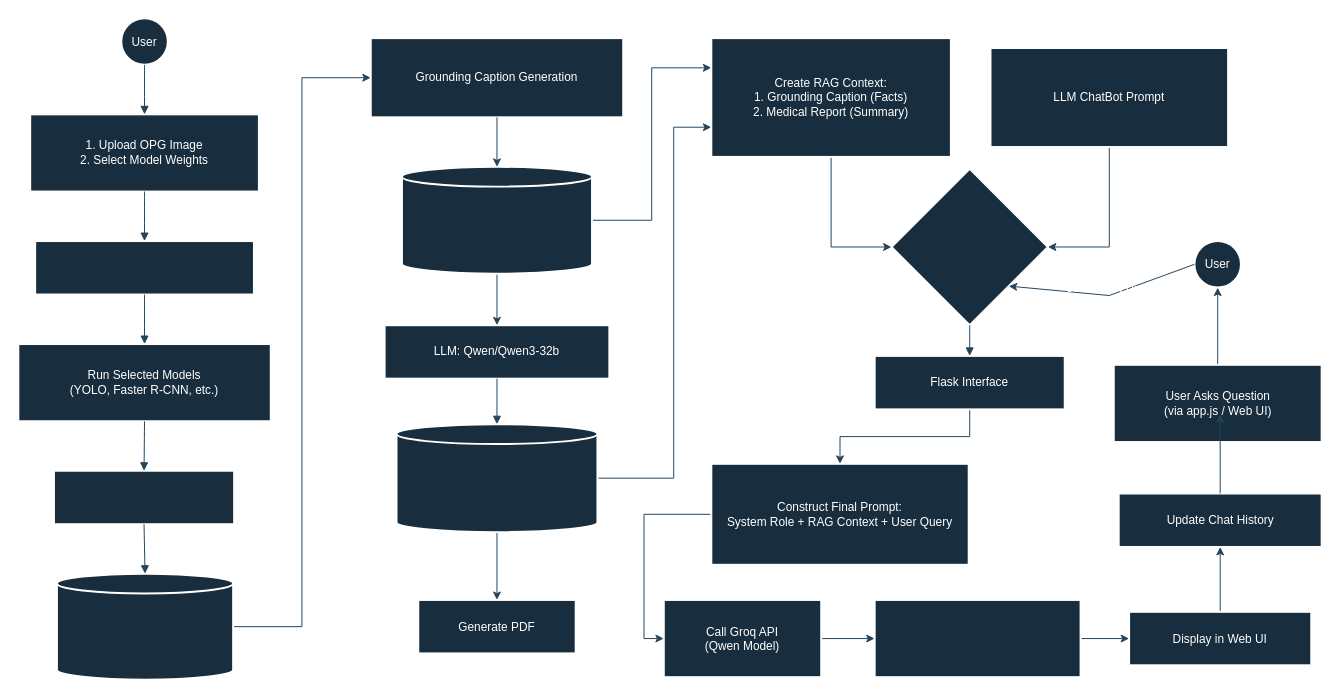
This 1339x697 diagram has some shape labels left out. Each missing label, with the centre of its shape:
"Aggregate & NMS" goes at [143,497].
"ChatBot Ready" goes at [969,246].
"Generate JSON Output (Teeth & Diseases)" goes at [144,626].
"Run Ensemble Pipeline" goes at [144,267].
"Save 'Ground Captions' (The Facts)" goes at [496,219].
"Save 'LLM Medical Report' (The Summary)" goes at [496,478].
"Stream Response (Remove 'think' tags)" goes at [977,638].
